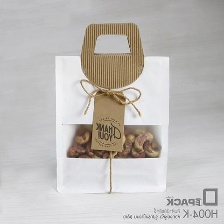snack: (46, 16, 181, 199)
